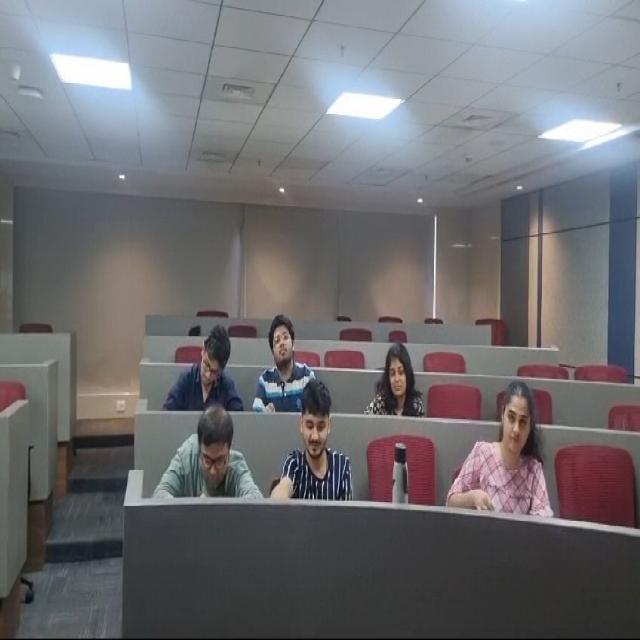cheating: (452, 374, 567, 524), (287, 363, 349, 515), (178, 408, 258, 500), (248, 313, 314, 416)
non-cheating: (159, 326, 251, 410), (365, 339, 431, 424)
